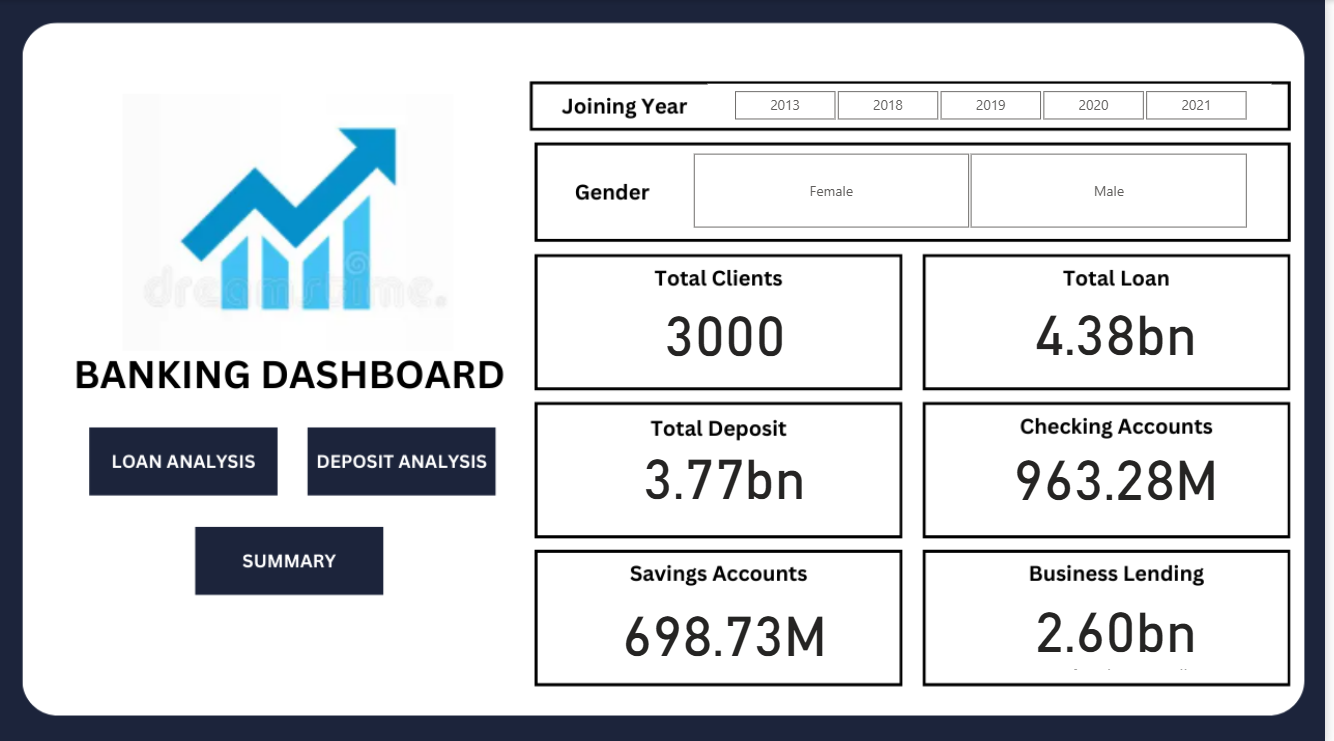

The page's visual inventory and layout, read from the dashboard file:
{"tool":"powerbi","page":{"name":"Home","canvas":[1280,720],"ordinal":0},"visuals":[{"type":"card","fields":{"Values":["banking-clients.Name"]},"box":[561,295.6,279.9,66.4],"z":0},{"type":"card","fields":{"Values":["banking-clients.Total Loans"]},"box":[927.8,295.6,300.4,63.9],"z":1000},{"type":"card","fields":{"Values":["banking-clients.Total Deposits"]},"box":[550.1,434.3,300.4,63.9],"z":2000},{"type":"card","fields":{"Values":["banking-clients.Checking Accounts"]},"box":[927.8,434.3,300.4,66.4],"z":3000},{"type":"card","fields":{"Values":["banking-clients.Saving Accounts"]},"box":[550.1,585.1,300.4,66.4],"z":4000},{"type":"card","fields":{"Values":["banking-clients.Business Lending"]},"box":[927.8,576.7,300.4,74.8],"z":5000},{"type":"slicer","fields":{"Values":["banking-clients.GenderId"]},"box":[644.2,141.2,583.9,85.7],"z":6000},{"type":"slicer","fields":{"Values":["banking-clients.joined_year"]},"box":[684.1,80.8,544.1,41],"z":7000},{"type":"actionButton","box":[100.2,426.8,149.6,39.8],"z":8000},{"type":"actionButton","box":[304.6,428.1,174.3,39.8],"z":9000},{"type":"actionButton","box":[225,521.4,107,39.8],"z":10000}]}

Visuals, with their boxes in screenshot pixels (x1, y1, x2, y2), scaled from the page's 1280x720 canvas onto the 1334x741 screenshot:
card - banking-clients.Name: 585,304,876,373
card - banking-clients.Total Loans: 967,304,1280,370
card - banking-clients.Total Deposits: 573,447,886,513
card - banking-clients.Checking Accounts: 967,447,1280,515
card - banking-clients.Saving Accounts: 573,602,886,671
card - banking-clients.Business Lending: 967,594,1280,671
slicer - banking-clients.GenderId: 671,145,1280,234
slicer - banking-clients.joined_year: 713,83,1280,125
actionButton: 104,439,260,480
actionButton: 317,441,499,482
actionButton: 234,537,346,578
